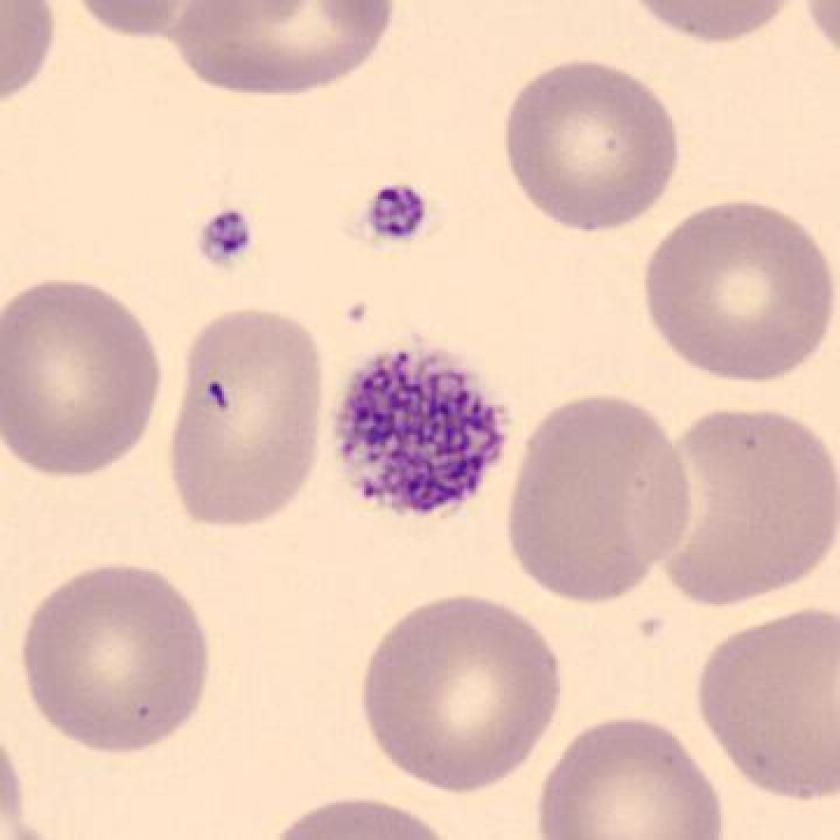platelets: (326, 341, 515, 524), (353, 177, 428, 244), (195, 202, 262, 272)
